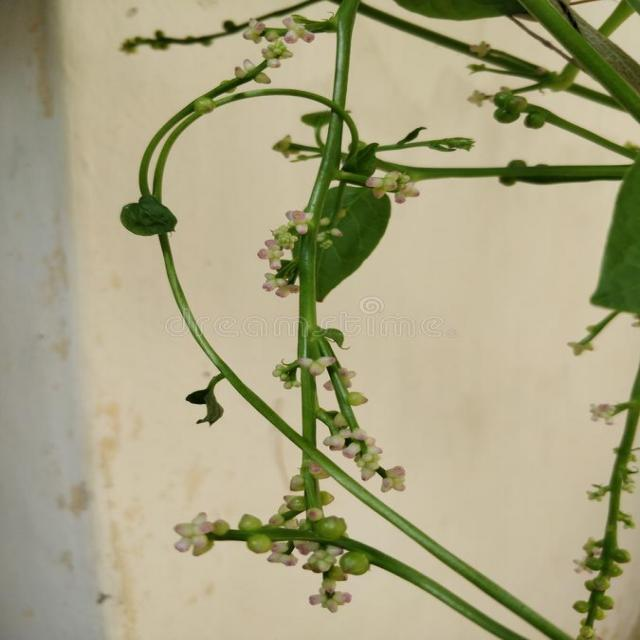Medicinal-Basale: (115, 6, 498, 629), (440, 0, 639, 362), (561, 391, 640, 639)
